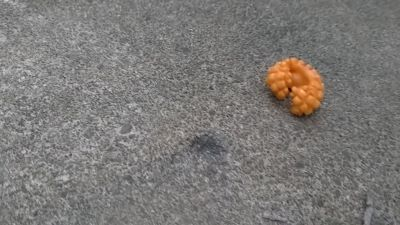eggs: (265, 55, 326, 119)
